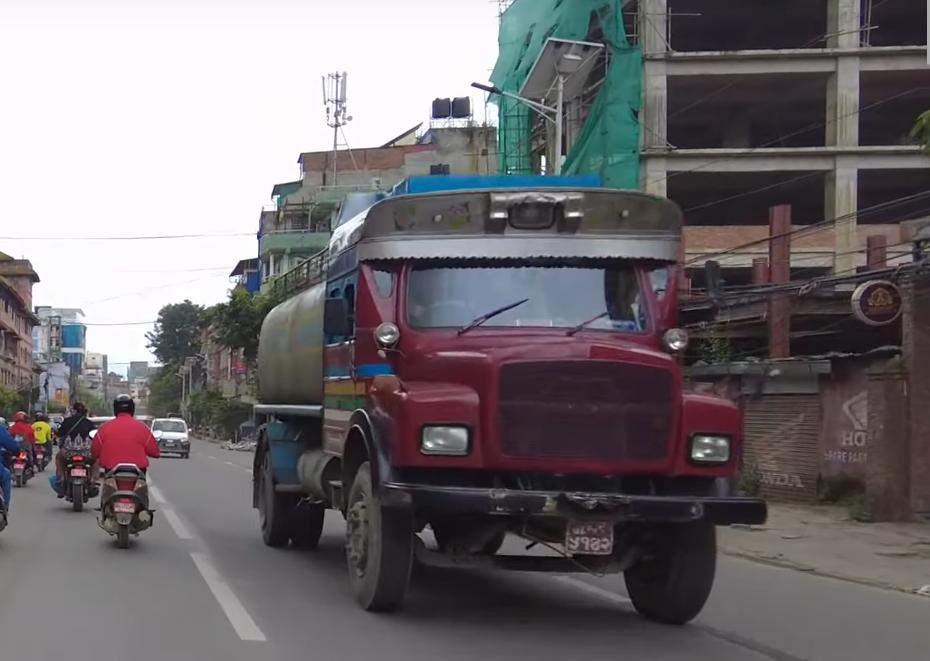bike: (50, 392, 97, 509), (3, 405, 44, 490)
mini_truck: (258, 183, 760, 627)
scooter: (93, 392, 154, 552)
taxi: (149, 403, 198, 468)
